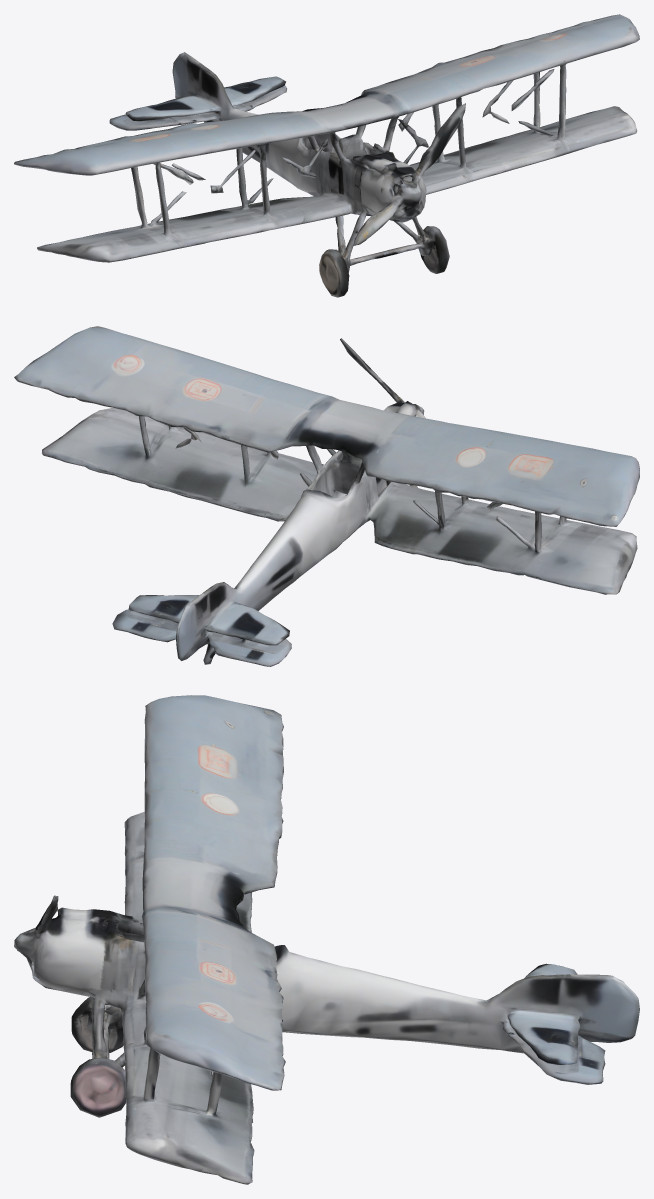
The model's file is Biplano .glb.
The picture shows the model from 3 angles, top to bottom: view 1: azimuth 30°, elevation 25°; view 2: azimuth 150°, elevation 25°; view 3: azimuth 270°, elevation 25°; orthographic projection. The views are drawn at different scales.
Visible parts, largest first — view 1: Biplano; view 2: Biplano; view 3: Biplano.
Part boxes in pixels (box(x1,y1,x2,y2)): Biplano: box(14, 14, 639, 297); Biplano: box(14, 326, 639, 666); Biplano: box(14, 695, 639, 1184).
Bounding box in the file's own units: 2.01 × 0.5675 × 1.4.
1 material, 1 textured.
